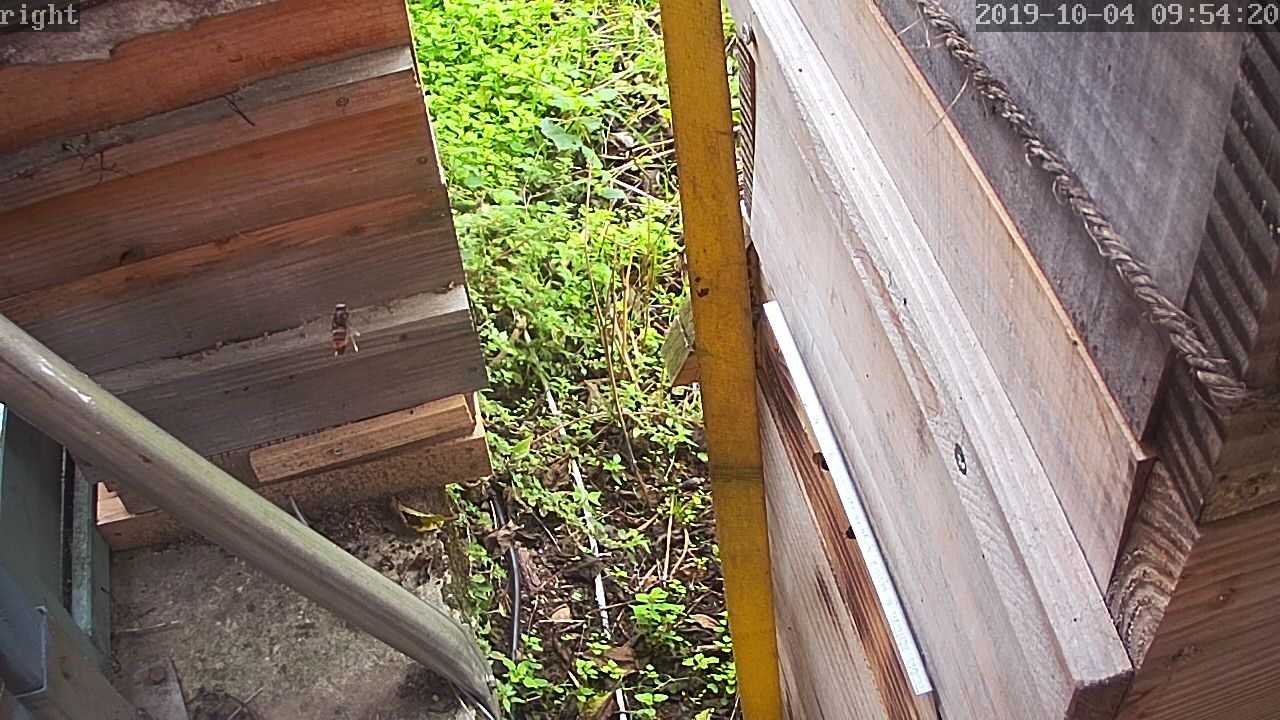bee: (963, 73, 1013, 131)
hornet: (320, 302, 365, 352), (681, 445, 715, 491)
